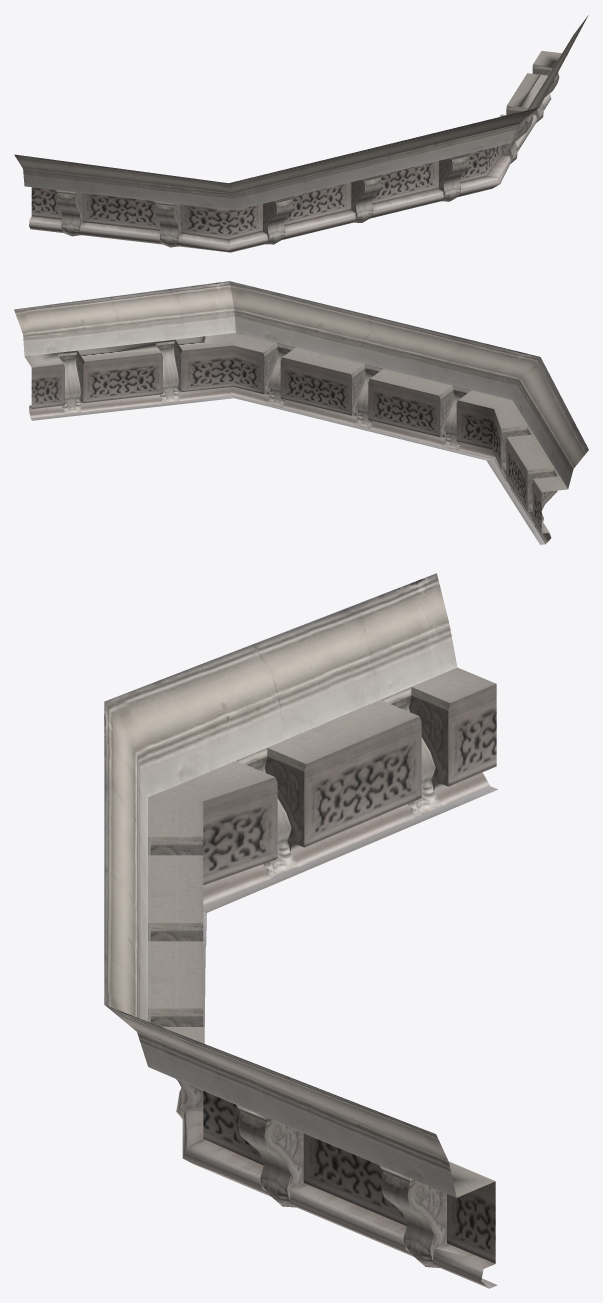
The model's file is WallRooflineBowWindowC.fbx.
The picture shows the model from 3 angles, top to bottom: view 1: azimuth 30°, elevation 25°; view 2: azimuth 150°, elevation 25°; view 3: azimuth 270°, elevation 25°; orthographic projection. The views are drawn at different scales.
Visible parts, largest first — view 1: WallRooflineBowWindowC; view 2: WallRooflineBowWindowC; view 3: WallRooflineBowWindowC.
Part boxes in pixels (x1,y1,x2,y2): WallRooflineBowWindowC: (14,15,588,252); WallRooflineBowWindowC: (14,281,588,544); WallRooflineBowWindowC: (104,573,497,1288).
Size of the model in its own units: 457 by 71.18 by 136.
